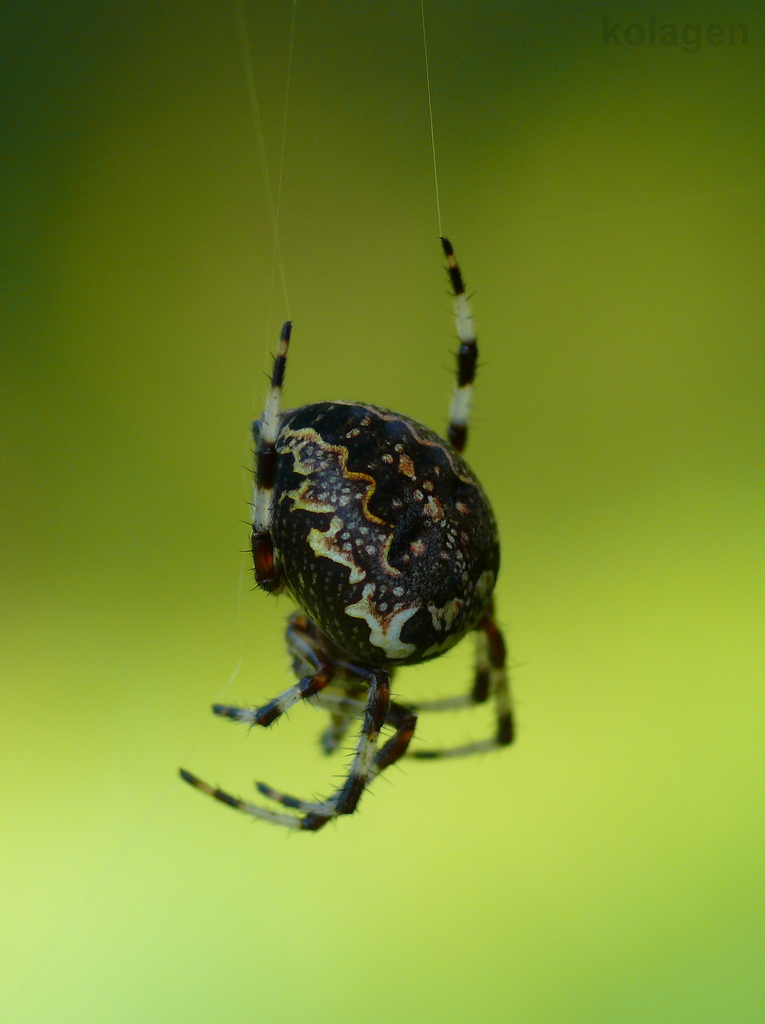spider: (138, 201, 542, 860)
